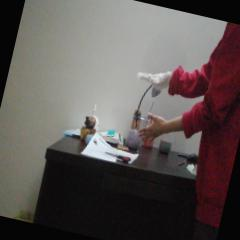gloved: (134, 64, 171, 90)
not-gloved: (136, 111, 168, 145)
